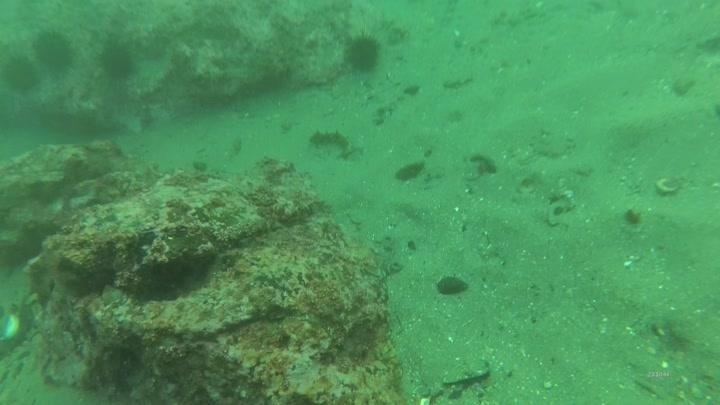echinus: (31, 27, 77, 74), (342, 32, 384, 75), (97, 38, 138, 82), (1, 52, 41, 95)
holothurian: (308, 126, 360, 160)
